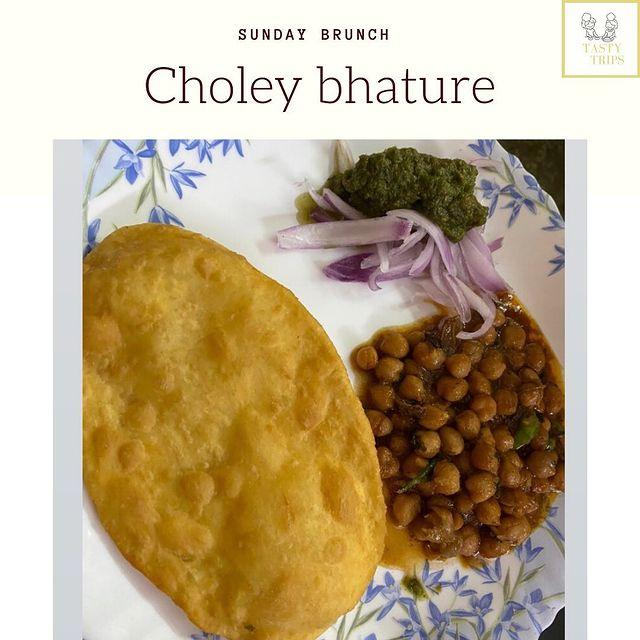Chole: (374, 324, 565, 555)
